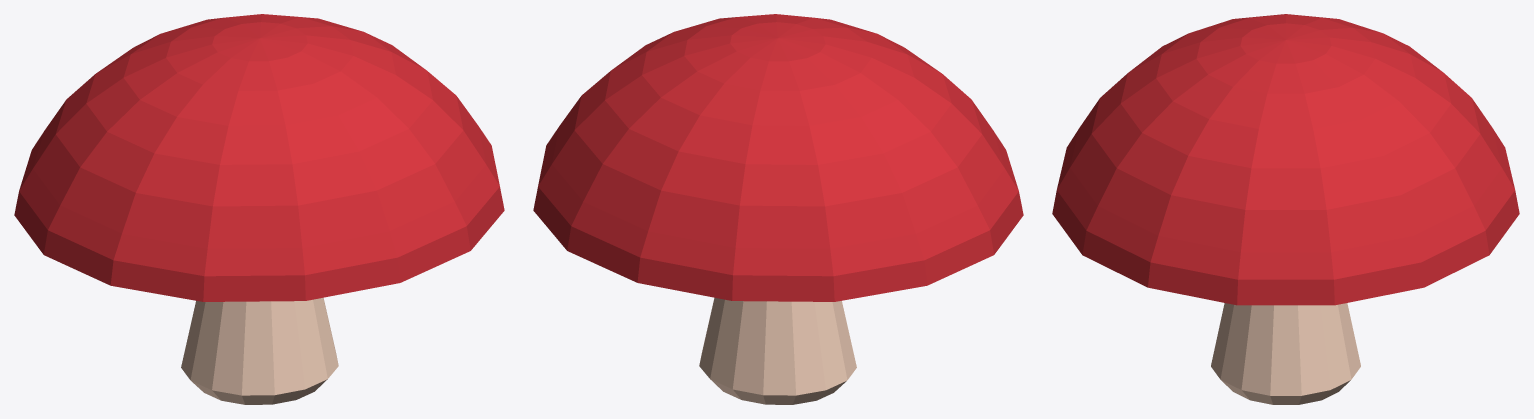
The model's file is Mushroom.fbx.
3 views of the same model, side by side, from view 1: azimuth 30°, elevation 25°; view 2: azimuth 150°, elevation 25°; view 3: azimuth 270°, elevation 25° (orthographic).
Parts seen in each view (by area): view 1: Mushroom; view 2: Mushroom; view 3: Mushroom.
Part boxes in pixels (bbox=[...]): Mushroom: bbox=[14, 14, 504, 404]; Mushroom: bbox=[533, 14, 1023, 404]; Mushroom: bbox=[1052, 14, 1519, 404].
Size of the model in its own units: 504 by 384 by 481.
